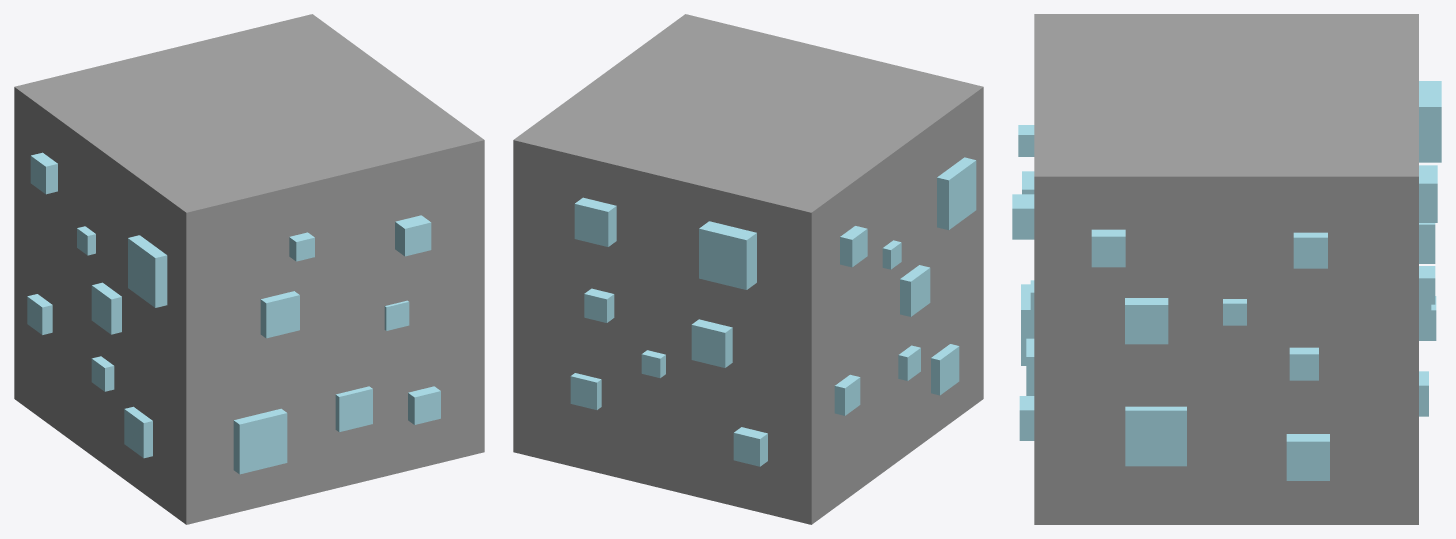
Rendered from Minecraft_Block.fbx.
3 renders of one model, left to right at view 1: azimuth 30°, elevation 25°; view 2: azimuth 150°, elevation 25°; view 3: azimuth 270°, elevation 25°, orthographic. The views are drawn at different scales.
Visible parts, largest first — view 1: Cube; view 2: Cube; view 3: Cube.
Part boxes in pixels (x1=…): Cube: x1=14, y1=14, x2=484, y2=524; Cube: x1=513, y1=14, x2=983, y2=524; Cube: x1=1012, y1=14, x2=1441, y2=524.
Size of the model in its own units: 0.9655 by 0.8885 by 0.992.
